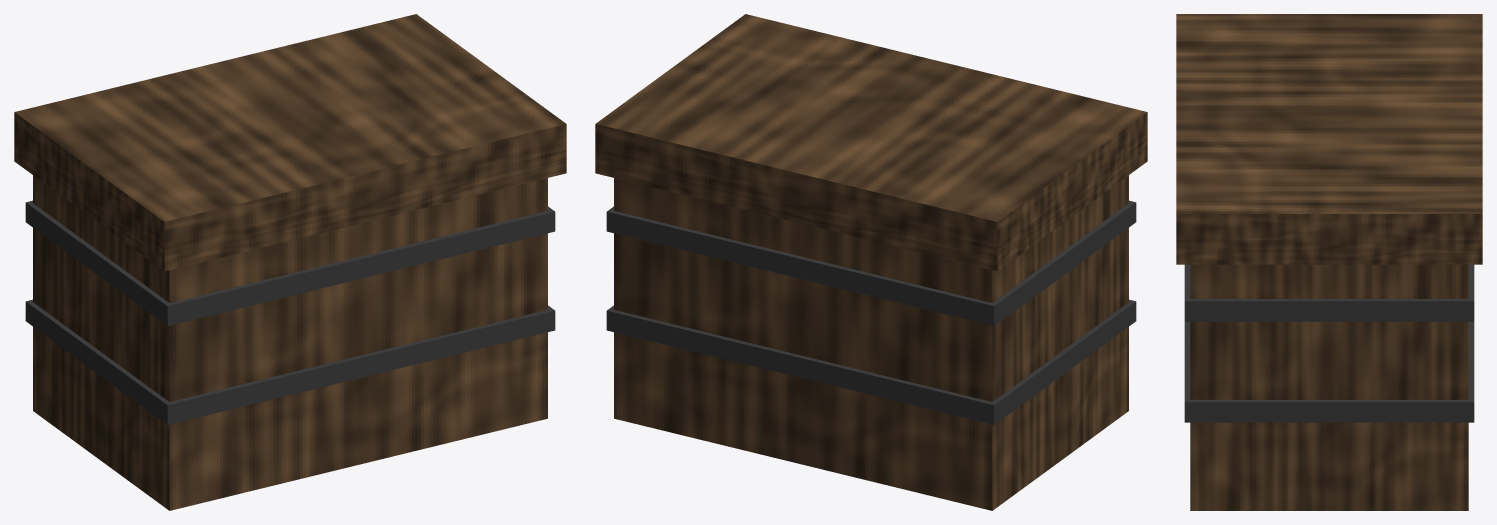
Rendered from wooden-chest.glb.
The picture shows the model from 3 angles, left to right: view 1: azimuth 30°, elevation 25°; view 2: azimuth 150°, elevation 25°; view 3: azimuth 270°, elevation 25°; orthographic projection.
Bounding box in the file's own units: 0.85 × 0.6 × 0.55.
Materials: 2 (1 with a texture image).
